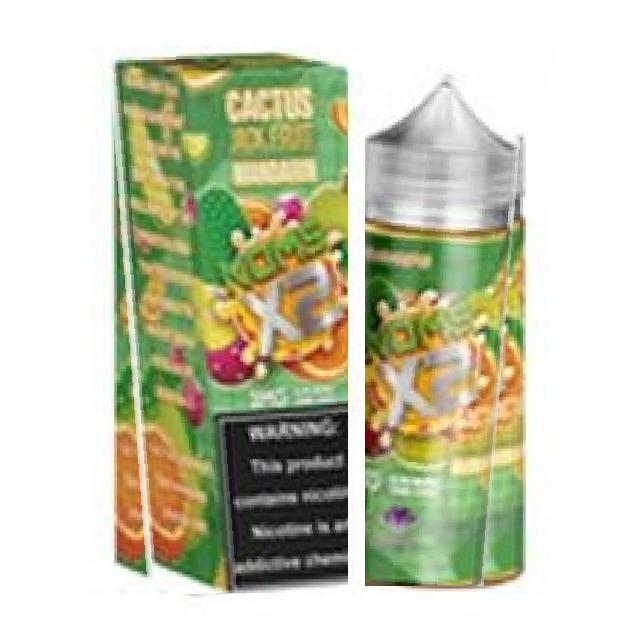Vapes: (109, 52, 348, 594), (366, 71, 526, 586)
